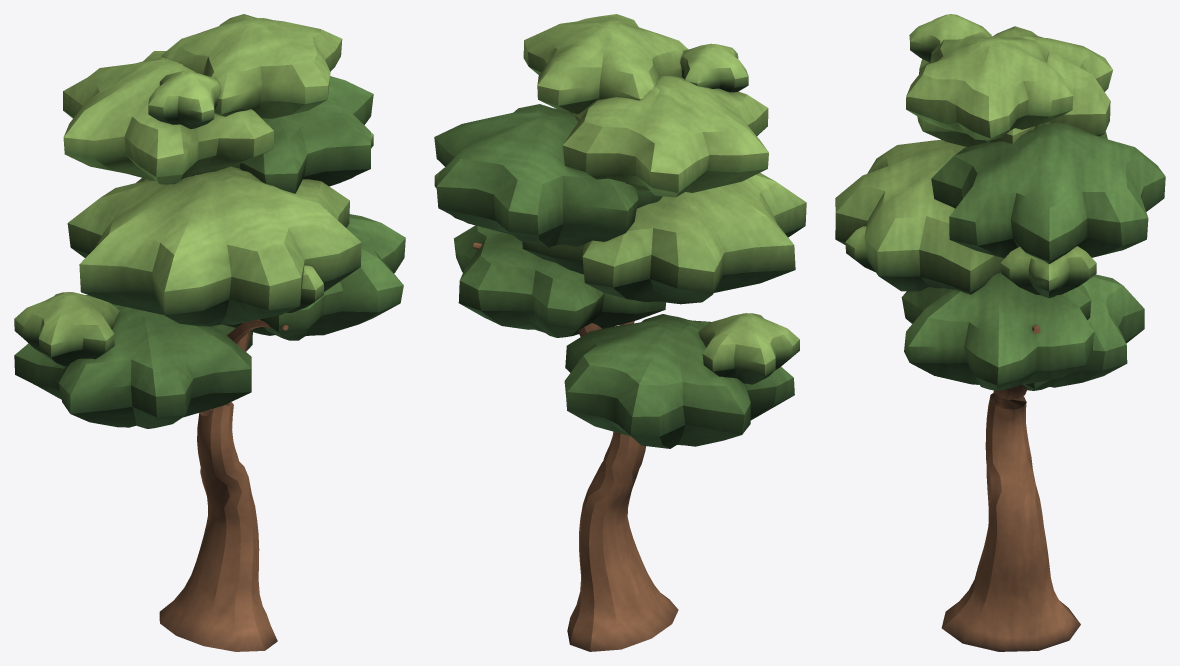
File: foundation_tree.glb
3 views of the same model, side by side, from view 1: azimuth 30°, elevation 25°; view 2: azimuth 150°, elevation 25°; view 3: azimuth 270°, elevation 25° (orthographic). The views are drawn at different scales.
Parts seen in each view (by area): view 1: Tree; view 2: Tree; view 3: Tree.
Part boxes in pixels (x1,y1,x2,y2): Tree: (14, 14, 405, 651); Tree: (434, 14, 806, 651); Tree: (835, 14, 1165, 651).
Size of the model in its own units: 1.89 by 3.1 by 1.55.
Materials: 1 (1 with a texture image).
